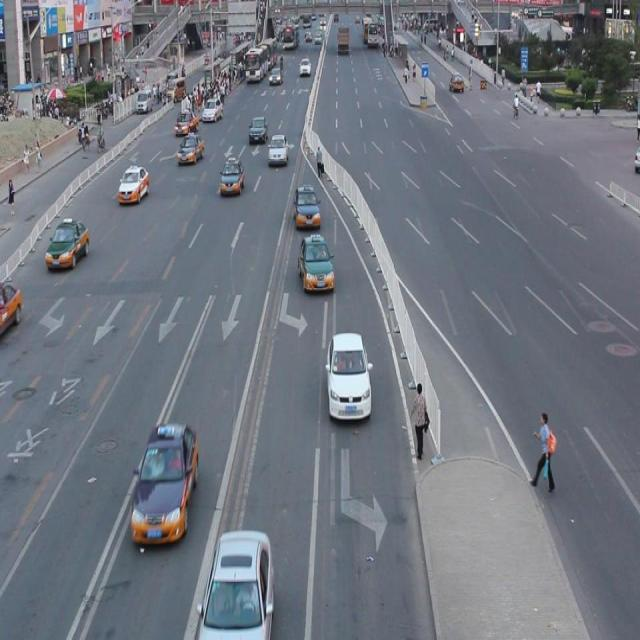car: (197, 526, 275, 640), (130, 421, 199, 544), (326, 329, 371, 420), (44, 216, 90, 271), (299, 233, 334, 292), (293, 184, 321, 230), (117, 164, 150, 203), (1, 278, 23, 336), (219, 155, 244, 196)
